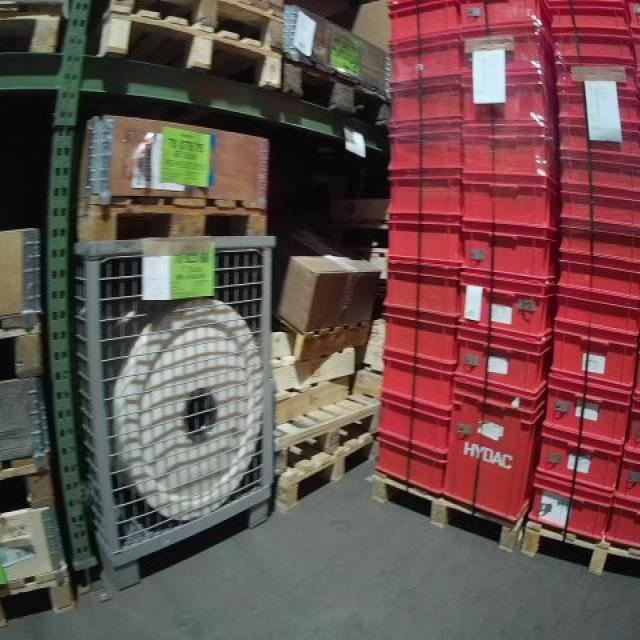pallet: (95, 5, 283, 92), (372, 467, 523, 555), (83, 190, 275, 246), (254, 392, 384, 473), (252, 439, 386, 514), (104, 1, 286, 55), (523, 504, 639, 583), (279, 58, 395, 131), (0, 570, 78, 627), (0, 2, 70, 57), (1, 447, 48, 522), (1, 313, 45, 377)
small_load_carrier: (447, 383, 550, 529), (453, 266, 557, 346), (450, 215, 561, 285), (447, 119, 561, 185), (525, 428, 623, 503), (512, 481, 615, 552), (543, 323, 640, 397), (535, 385, 633, 454), (458, 170, 557, 238), (453, 339, 552, 405), (451, 27, 552, 82), (457, 79, 552, 135), (375, 393, 451, 460), (373, 432, 447, 500), (551, 236, 639, 292), (374, 353, 458, 411), (547, 299, 640, 351), (554, 267, 640, 322), (547, 84, 637, 135), (384, 35, 459, 95), (387, 264, 462, 322), (552, 123, 637, 171), (557, 159, 639, 208), (548, 198, 637, 241), (547, 2, 640, 41), (385, 4, 459, 53), (387, 217, 464, 264), (386, 126, 458, 175), (386, 175, 466, 219), (546, 61, 639, 98), (386, 81, 459, 128), (547, 30, 637, 68), (458, 0, 547, 30), (384, 320, 458, 355), (610, 449, 639, 507), (612, 508, 640, 550), (623, 409, 640, 453)
stillage: (67, 228, 287, 594)
